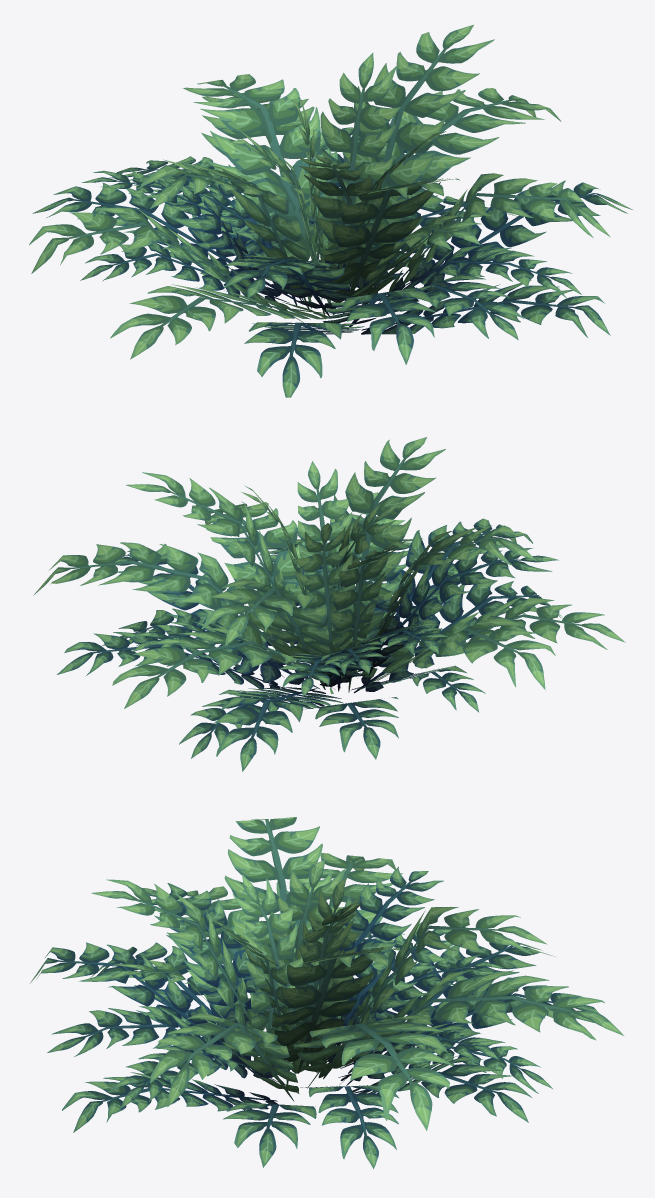
File: small_bush.fbx
3 renders of one model, top to bottom at view 1: azimuth 30°, elevation 25°; view 2: azimuth 150°, elevation 25°; view 3: azimuth 270°, elevation 25°, orthographic. The views are drawn at different scales.
Parts seen in each view (by area): view 1: uvedit1; view 2: uvedit1; view 3: uvedit1.
Boxes of the visible parts, box(x1,y1,x2,y2) form: uvedit1: box(29, 25, 632, 397); uvedit1: box(33, 437, 625, 771); uvedit1: box(30, 817, 623, 1169).
Bounding box in the file's own units: 4.23 × 1.7 × 4.12.
Materials: 1 (1 with a texture image).
